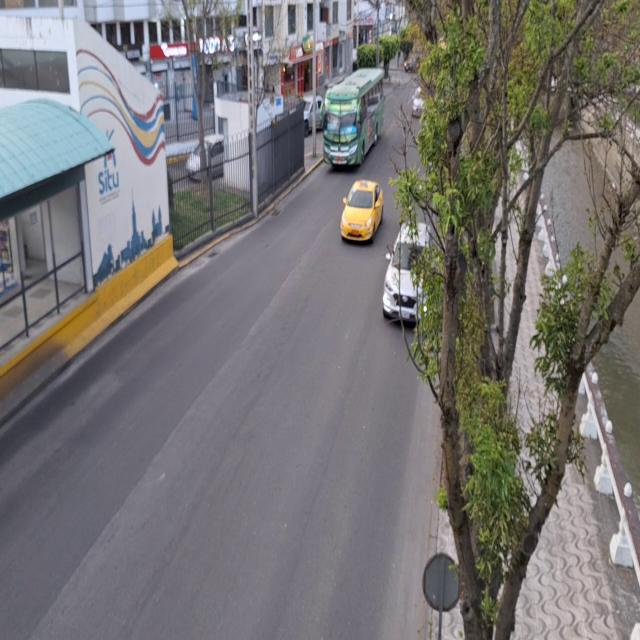BUS: (323, 88, 379, 171)
SED: (341, 177, 382, 244)
